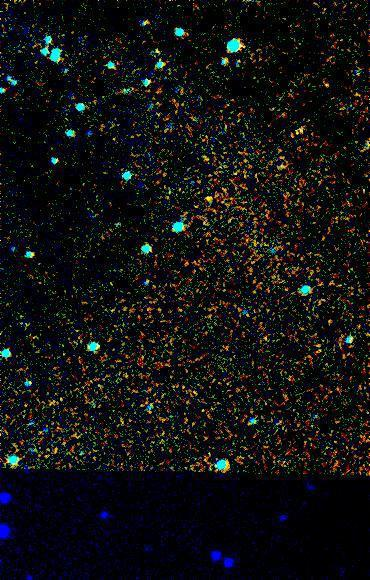star: (194, 187, 224, 217)
